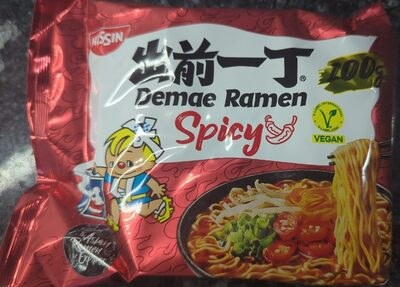Demae Ramen Spicy Instant Noodles: (20, 14, 380, 273)
